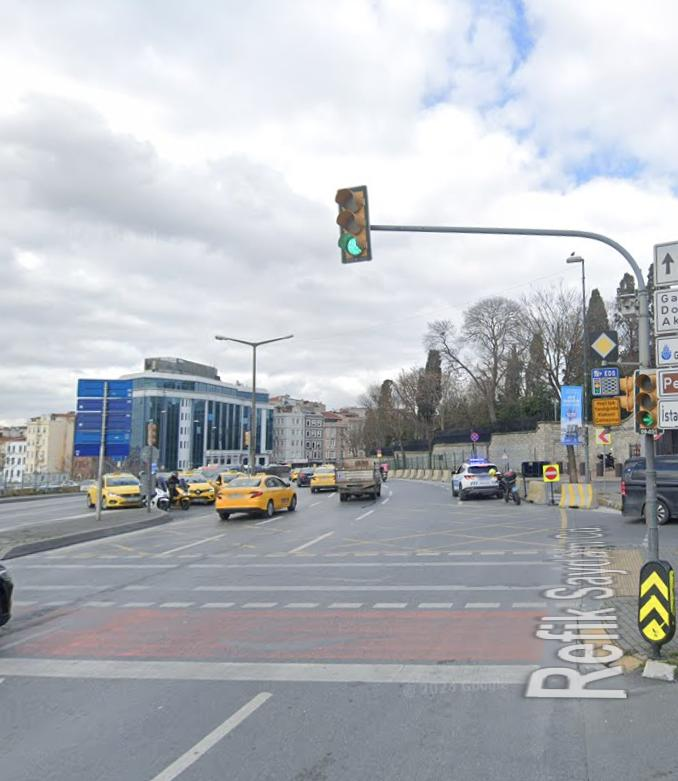greenlight: (337, 183, 371, 265), (636, 370, 660, 429)
